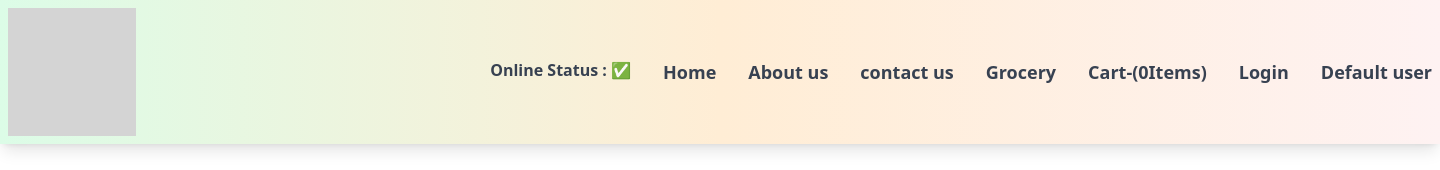
should be render heder component with login logout
Click the button "Login".
click(1264, 72)  # box [1239,58,1289,86]
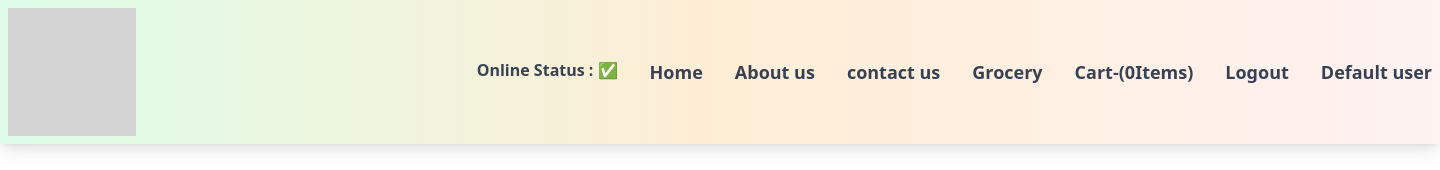
Result: the button "Logout" is shown at [1225,58,1289,86]
